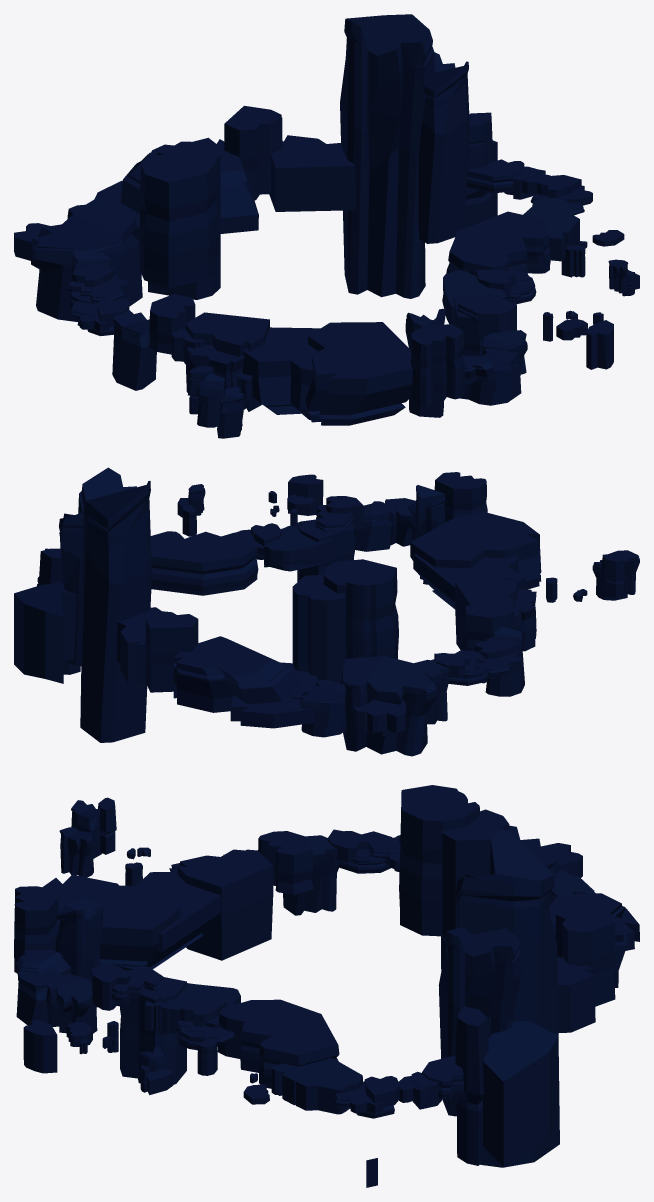
The model's file is HojungGround_Rock.fbx.
3 renders of one model, top to bottom at view 1: azimuth 30°, elevation 25°; view 2: azimuth 150°, elevation 25°; view 3: azimuth 270°, elevation 25°, orthographic. The views are drawn at different scales.
Visible parts, largest first — view 1: RockModule5; view 2: RockModule5; view 3: RockModule5.
Boxes of the visible parts, x1,y1,x2,y2 form: RockModule5: [14, 14, 639, 438]; RockModule5: [14, 467, 639, 756]; RockModule5: [14, 785, 639, 1187].
Size of the model in its own units: 53.45 by 26.91 by 51.04.
